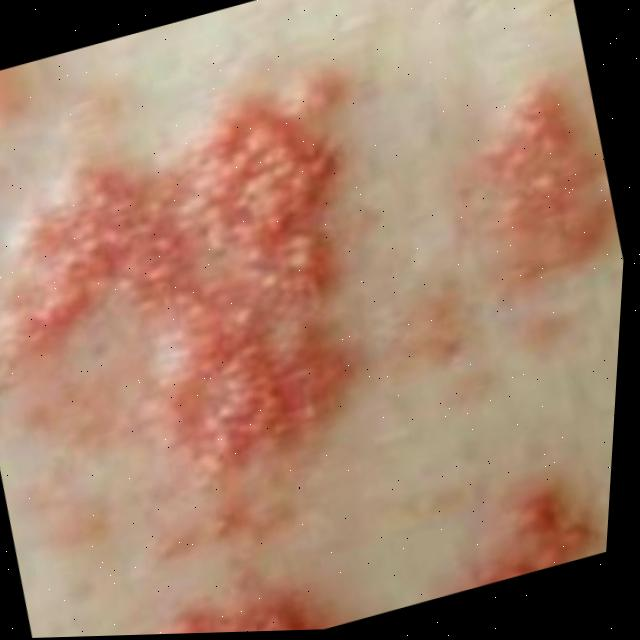Shingles: (0, 4, 639, 640)
